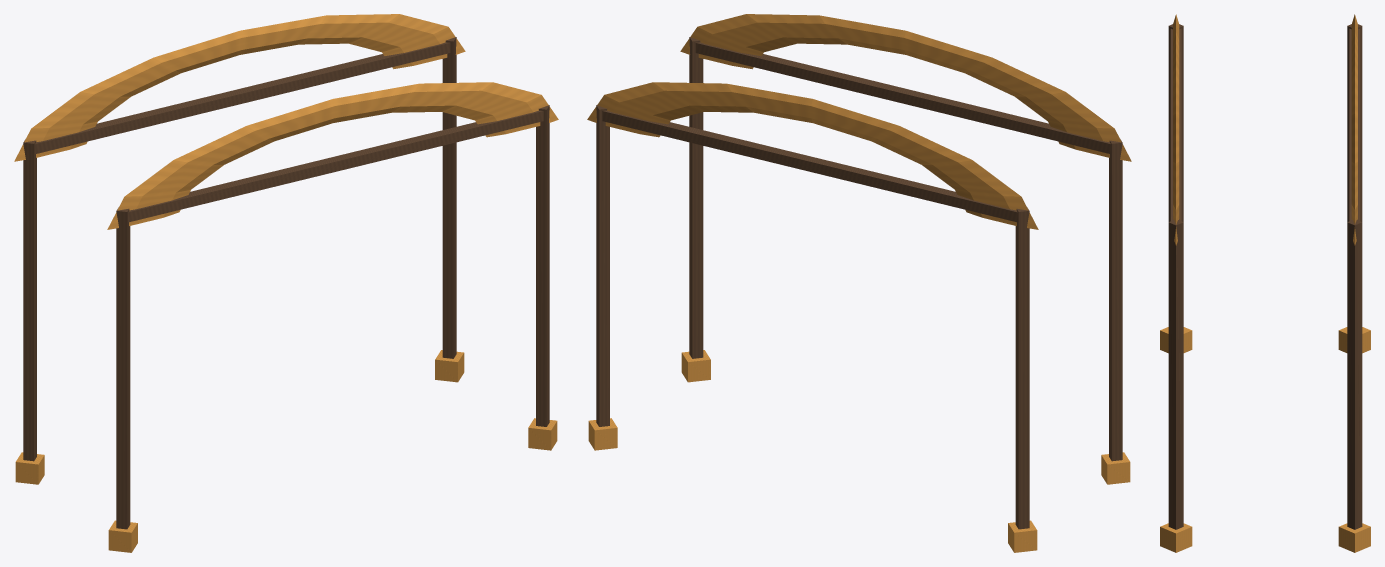
File: atlas100-s011-a08.lod2.glb
3 renders of one model, left to right at view 1: azimuth 30°, elevation 25°; view 2: azimuth 150°, elevation 25°; view 3: azimuth 270°, elevation 25°, orthographic. The views are drawn at different scales.
Parts seen in each view (by area): view 1: atlas100-s011-a08:part-011, atlas100-s011-a08:part-010, atlas100-s011-a08:part-009, atlas100-s011-a08:part-008, atlas100-s011-a08:part-002, atlas100-s011-a08:part-000, atlas100-s011-a08:part-006, atlas100-s011-a08:part-004, atlas100-s011-a08:part-001, atlas100-s011-a08:part-003, atlas100-s011-a08:part-007, atlas100-s011-a08:part-005; view 2: atlas100-s011-a08:part-010, atlas100-s011-a08:part-011, atlas100-s011-a08:part-008, atlas100-s011-a08:part-009, atlas100-s011-a08:part-000, atlas100-s011-a08:part-002, atlas100-s011-a08:part-004, atlas100-s011-a08:part-006, atlas100-s011-a08:part-003, atlas100-s011-a08:part-001, atlas100-s011-a08:part-005, atlas100-s011-a08:part-007; view 3: atlas100-s011-a08:part-004, atlas100-s011-a08:part-006, atlas100-s011-a08:part-010, atlas100-s011-a08:part-011, atlas100-s011-a08:part-000, atlas100-s011-a08:part-002, atlas100-s011-a08:part-008, atlas100-s011-a08:part-009, atlas100-s011-a08:part-005, atlas100-s011-a08:part-007, atlas100-s011-a08:part-001, atlas100-s011-a08:part-003.
Part boxes in pixels (bbox=[...]): atlas100-s011-a08:part-011: bbox=[107, 82, 558, 229]; atlas100-s011-a08:part-010: bbox=[14, 14, 465, 161]; atlas100-s011-a08:part-009: bbox=[128, 110, 543, 222]; atlas100-s011-a08:part-008: bbox=[35, 42, 450, 154]; atlas100-s011-a08:part-002: bbox=[116, 207, 130, 529]; atlas100-s011-a08:part-000: bbox=[23, 139, 36, 461]; atlas100-s011-a08:part-006: bbox=[536, 105, 549, 426]; atlas100-s011-a08:part-004: bbox=[442, 37, 456, 358]; atlas100-s011-a08:part-001: bbox=[15, 452, 44, 484]; atlas100-s011-a08:part-003: bbox=[108, 520, 137, 552]; atlas100-s011-a08:part-007: bbox=[528, 418, 557, 450]; atlas100-s011-a08:part-005: bbox=[435, 350, 464, 382]; atlas100-s011-a08:part-010: bbox=[587, 82, 1038, 229]; atlas100-s011-a08:part-011: bbox=[680, 14, 1131, 161]; atlas100-s011-a08:part-008: bbox=[602, 110, 1017, 222]; atlas100-s011-a08:part-009: bbox=[695, 42, 1110, 154]; atlas100-s011-a08:part-000: bbox=[1015, 207, 1029, 529]; atlas100-s011-a08:part-002: bbox=[1109, 139, 1122, 461]; atlas100-s011-a08:part-004: bbox=[596, 105, 609, 426]; atlas100-s011-a08:part-006: bbox=[689, 37, 703, 358]; atlas100-s011-a08:part-003: bbox=[1101, 452, 1130, 484]; atlas100-s011-a08:part-001: bbox=[1008, 520, 1037, 552]; atlas100-s011-a08:part-005: bbox=[588, 418, 617, 450]; atlas100-s011-a08:part-007: bbox=[681, 350, 710, 382]; atlas100-s011-a08:part-004: bbox=[1347, 220, 1362, 529]; atlas100-s011-a08:part-006: bbox=[1168, 220, 1183, 529]; atlas100-s011-a08:part-010: bbox=[1351, 14, 1357, 245]; atlas100-s011-a08:part-011: bbox=[1173, 14, 1179, 245]; atlas100-s011-a08:part-000: bbox=[1347, 24, 1362, 221]; atlas100-s011-a08:part-002: bbox=[1168, 24, 1183, 221]; atlas100-s011-a08:part-008: bbox=[1349, 28, 1360, 221]; atlas100-s011-a08:part-009: bbox=[1170, 28, 1181, 221]; atlas100-s011-a08:part-005: bbox=[1338, 523, 1370, 552]; atlas100-s011-a08:part-007: bbox=[1160, 523, 1192, 552]; atlas100-s011-a08:part-001: bbox=[1338, 327, 1370, 353]; atlas100-s011-a08:part-003: bbox=[1160, 327, 1192, 353].
Size of the model in its own units: 5.6 by 4.7 by 2.36.
2 materials, 2 textured.
